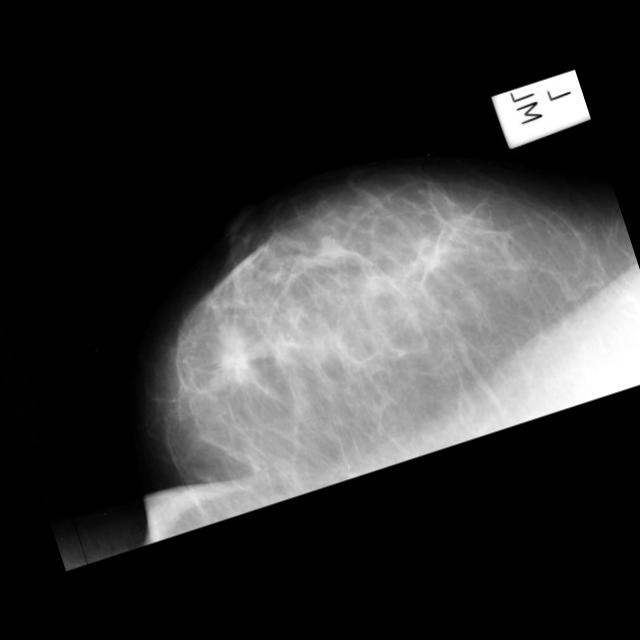SPIC: (190, 311, 274, 396)
